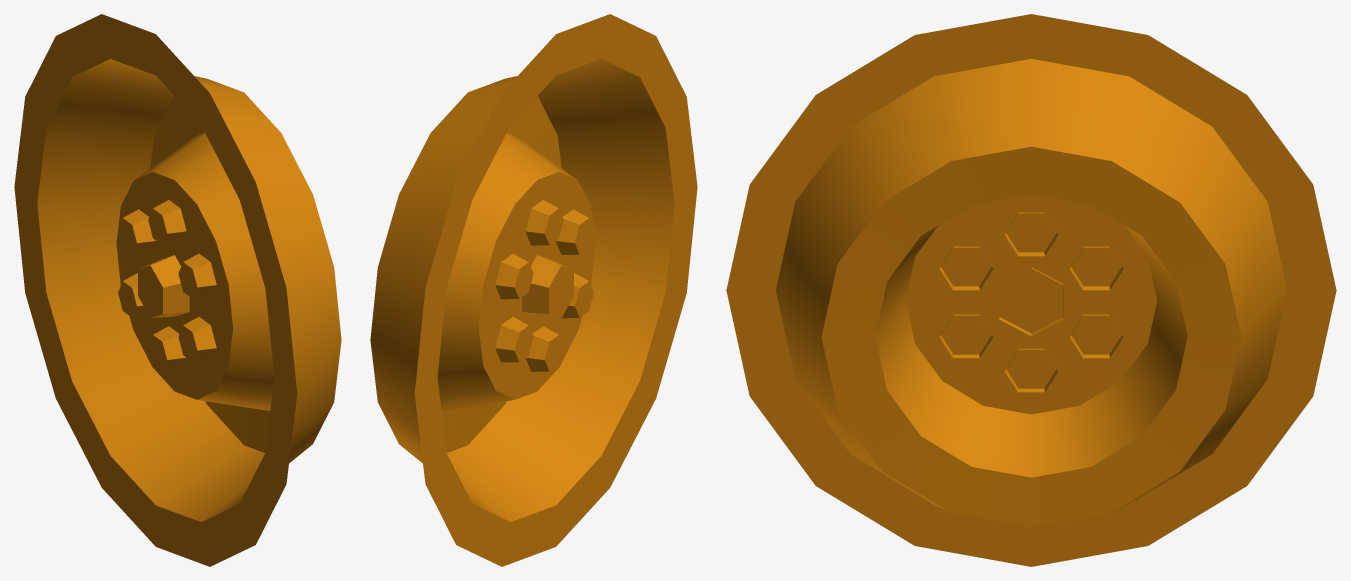
File: Car1WheelPart2.fbx
3 renders of one model, left to right at view 1: azimuth 30°, elevation 25°; view 2: azimuth 150°, elevation 25°; view 3: azimuth 270°, elevation 25°, orthographic. The views are drawn at different scales.
Parts seen in each view (by area): view 1: Car1WheelPart2; view 2: Car1WheelPart2; view 3: Car1WheelPart2.
Boxes of the visible parts, box(x1,y1,x2,y2) form: Car1WheelPart2: box(14, 14, 341, 566); Car1WheelPart2: box(370, 14, 697, 566); Car1WheelPart2: box(726, 14, 1336, 566).
Bounding box in the file's own units: 0.1112 × 0.5817 × 0.5817.
